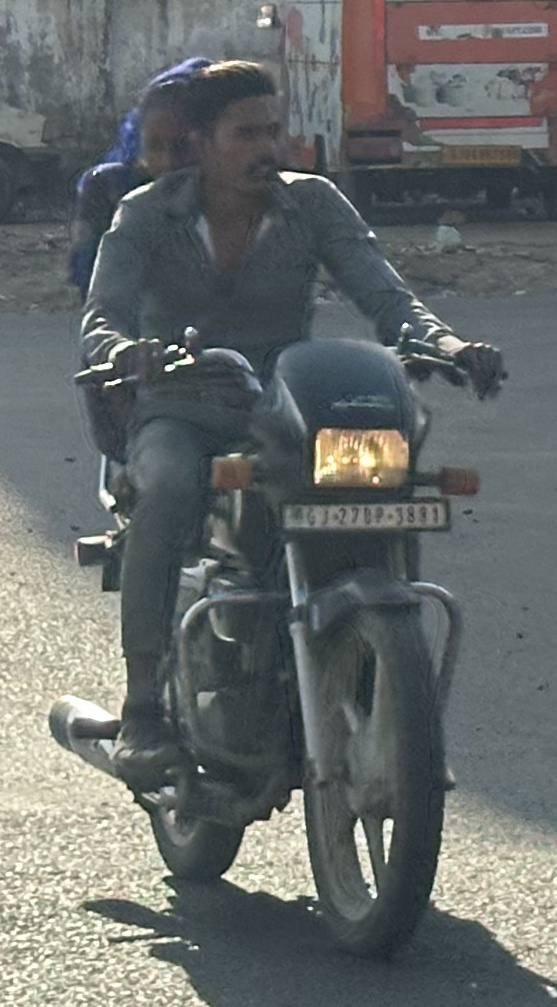BikeWithRider: (40, 46, 518, 968)
NoHelmet: (176, 53, 300, 206), (121, 53, 230, 188)
